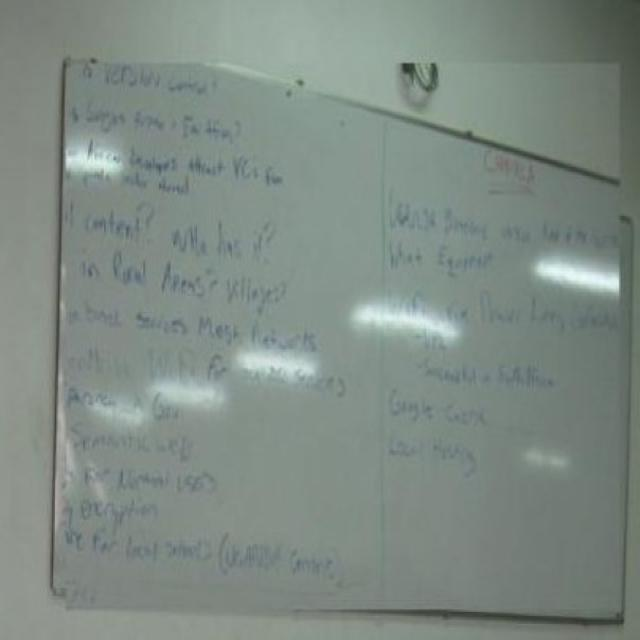White-board: (59, 36, 619, 617)
